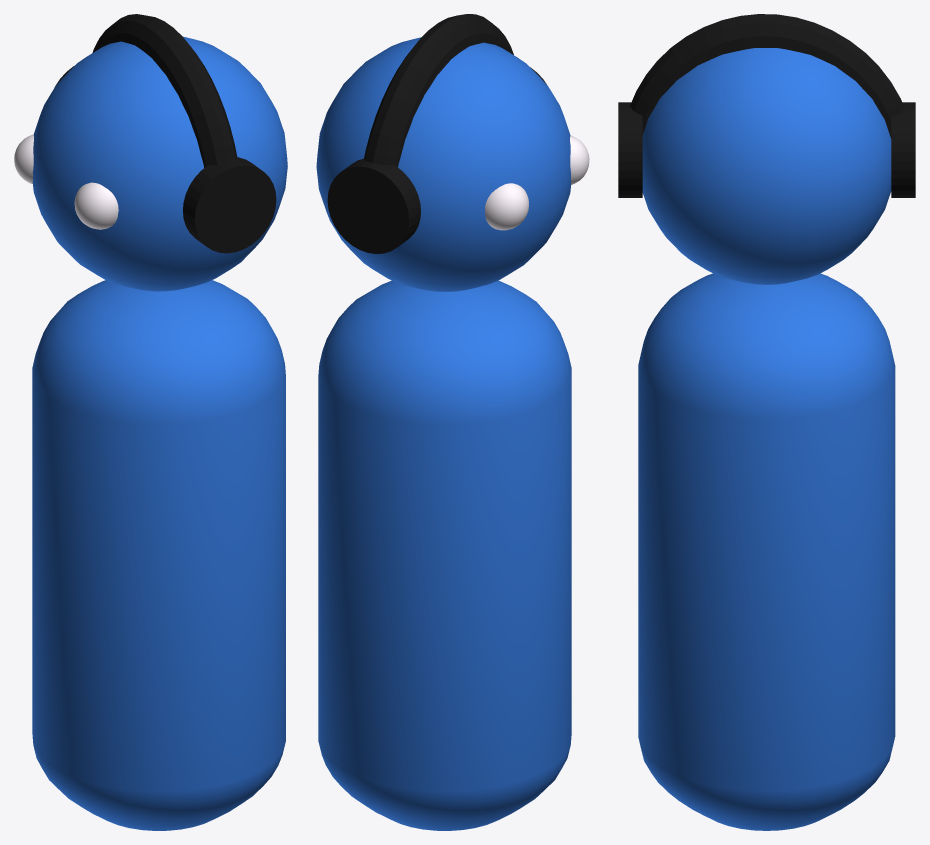
The model's file is Person Headphones.fbx.
The picture shows the model from 3 angles, left to right: view 1: azimuth 30°, elevation 25°; view 2: azimuth 150°, elevation 25°; view 3: azimuth 270°, elevation 25°; orthographic projection.
Visible parts, largest first — view 1: Cylinder.004, Sphere.011, Torus, Cylinder.005, Sphere.013, Sphere.012; view 2: Cylinder.004, Sphere.011, Torus, Cylinder.006, Sphere.012, Sphere.013; view 3: Cylinder.004, Sphere.011, Torus, Cylinder.005, Cylinder.006.
Part boxes in pixels (<box>): Cylinder.004: <box>32,280,285,830</box>; Sphere.011: <box>32,36,287,291</box>; Torus: <box>92,14,237,167</box>; Cylinder.005: <box>183,157,276,253</box>; Sphere.013: <box>74,182,118,229</box>; Sphere.012: <box>14,134,33,183</box>; Cylinder.004: <box>318,280,571,830</box>; Sphere.011: <box>316,37,571,291</box>; Torus: <box>364,14,513,167</box>; Cylinder.006: <box>327,158,420,253</box>; Sphere.012: <box>485,183,528,230</box>; Sphere.013: <box>570,135,589,184</box>; Cylinder.004: <box>638,273,895,830</box>; Sphere.011: <box>642,48,891,284</box>; Torus: <box>630,14,904,138</box>; Cylinder.005: <box>618,102,642,197</box>; Cylinder.006: <box>891,102,915,197</box>.
Bounding box in the file's own units: 162 × 549 × 184.
